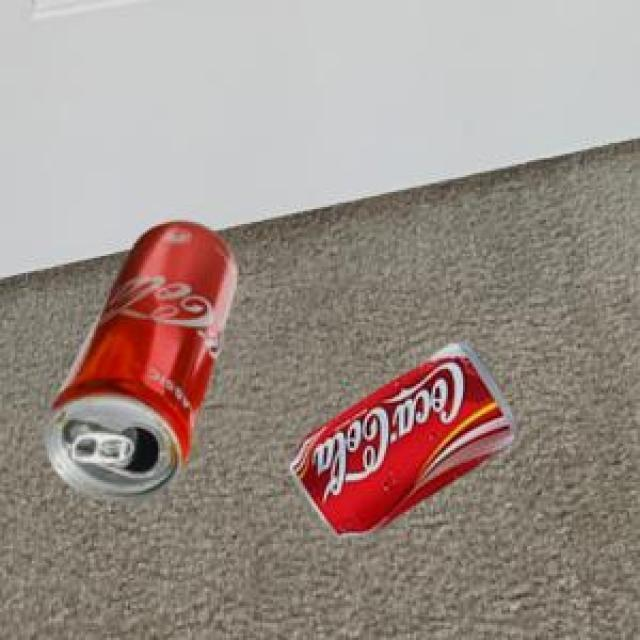Can: (42, 219, 234, 498), (287, 340, 515, 537)
